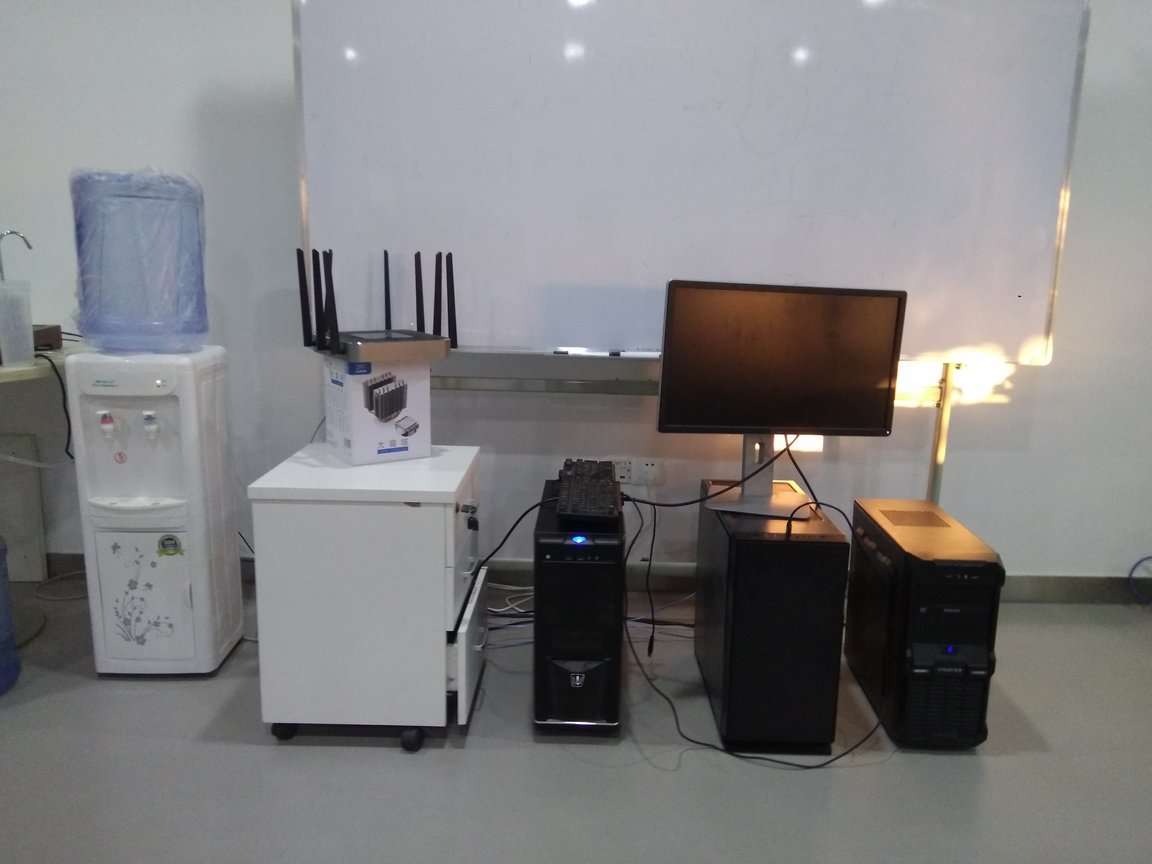computer: (697, 474, 840, 777), (849, 497, 1001, 763), (532, 476, 630, 762)
drawer chest: (248, 443, 492, 755)
monitor: (659, 278, 902, 522)
scuttlebutt: (64, 162, 232, 364)
water dispenser: (64, 351, 241, 693)
